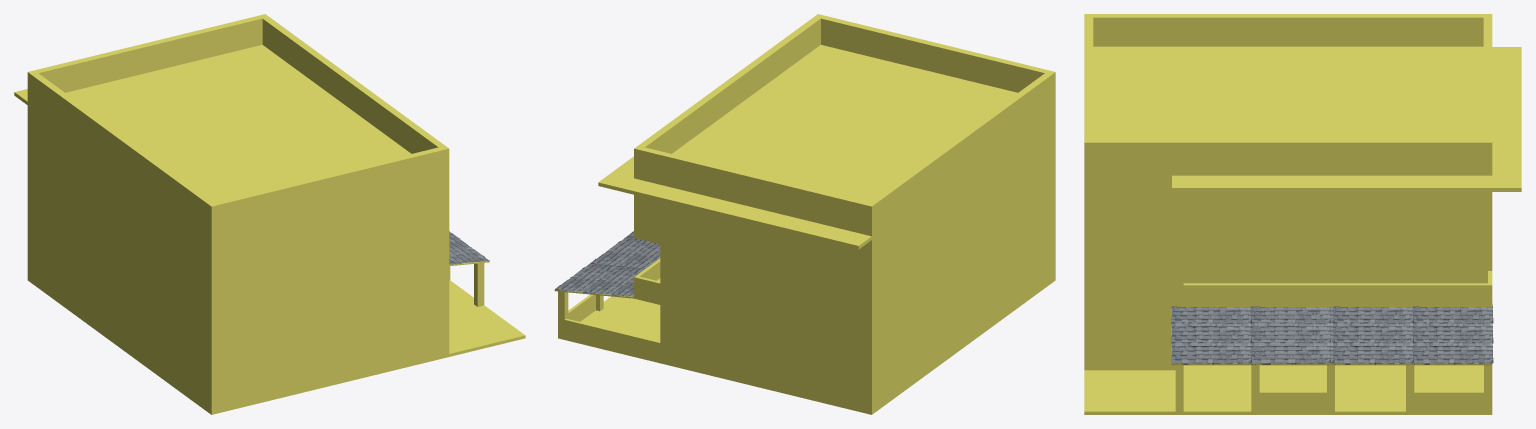
Rendered from canteen.glb.
The picture shows the model from 3 angles, left to right: view 1: azimuth 30°, elevation 25°; view 2: azimuth 150°, elevation 25°; view 3: azimuth 270°, elevation 25°; orthographic projection. The views are drawn at different scales.
Parts seen in each view (by area): view 1: RT floor, 1F floor and wall, RT wall, 2F wall, 3F wall, 3F floor, 2F floor, Section Of Roof 01.005; view 2: RT floor, 1F floor and wall, RT wall, 3F wall, 2F wall, Section Of Roof 01.005, 2F floor, 3F floor; view 3: RT floor, 3F wall, RT wall, 2F wall, 1F floor and wall, Section Of Roof 01.005, 3F floor, 2F floor.
Boxes of the visible parts, x1,y1,x2,y2 form: RT floor: (27, 44, 449, 236); 1F floor and wall: (27, 221, 525, 414); RT wall: (27, 14, 449, 235); 2F wall: (27, 161, 449, 355); 3F wall: (14, 89, 449, 295); 3F floor: (27, 158, 449, 295); 2F floor: (27, 217, 449, 354); Section Of Roof 01.005: (449, 231, 489, 264); RT floor: (634, 45, 1055, 236); 1F floor and wall: (554, 221, 1055, 414); RT wall: (634, 14, 1055, 235); 3F wall: (598, 102, 1055, 295); 2F wall: (634, 161, 1055, 355); Section Of Roof 01.005: (554, 231, 660, 296); 2F floor: (634, 217, 1055, 354); 3F floor: (634, 158, 1055, 295); RT floor: (1084, 46, 1492, 175); 3F wall: (1084, 47, 1521, 241); RT wall: (1084, 14, 1492, 175); 2F wall: (1084, 241, 1492, 307); 1F floor and wall: (1084, 307, 1492, 414); Section Of Roof 01.005: (1171, 304, 1493, 364); 3F floor: (1084, 237, 1492, 241); 2F floor: (1084, 303, 1492, 307).
Bounding box in the file's own units: 27.99 × 17.5 × 30.
3 materials, 1 textured.
